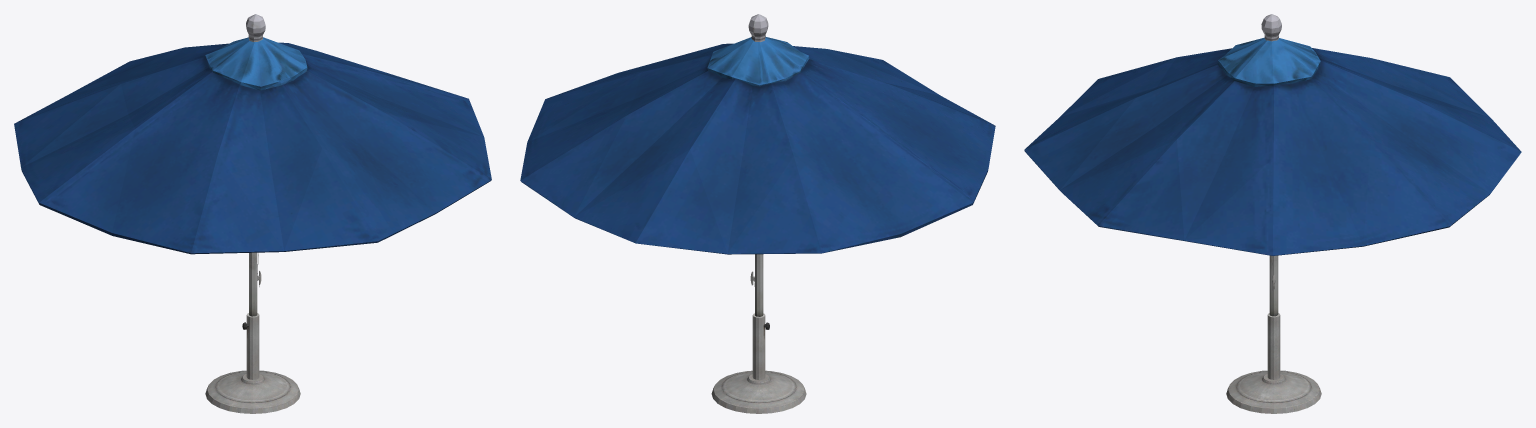
The model's file is sun_umbrella.obj.
3 renders of one model, left to right at view 1: azimuth 30°, elevation 25°; view 2: azimuth 150°, elevation 25°; view 3: azimuth 270°, elevation 25°, orthographic.
Parts seen in each view (by area): view 1: sun_umbrella; view 2: sun_umbrella; view 3: sun_umbrella.
Part boxes in pixels (bbox=[...]): sun_umbrella: bbox=[14, 14, 491, 413]; sun_umbrella: bbox=[520, 14, 995, 413]; sun_umbrella: bbox=[1024, 14, 1521, 413].
Bounding box in the file's own units: 237 × 200 × 237.
